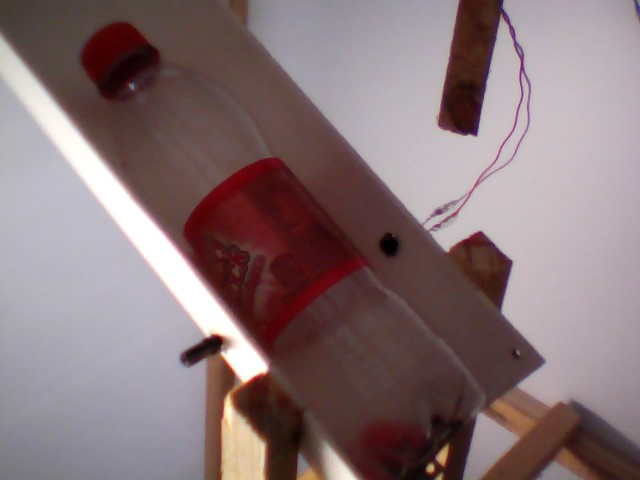plastico: (72, 21, 498, 480)
